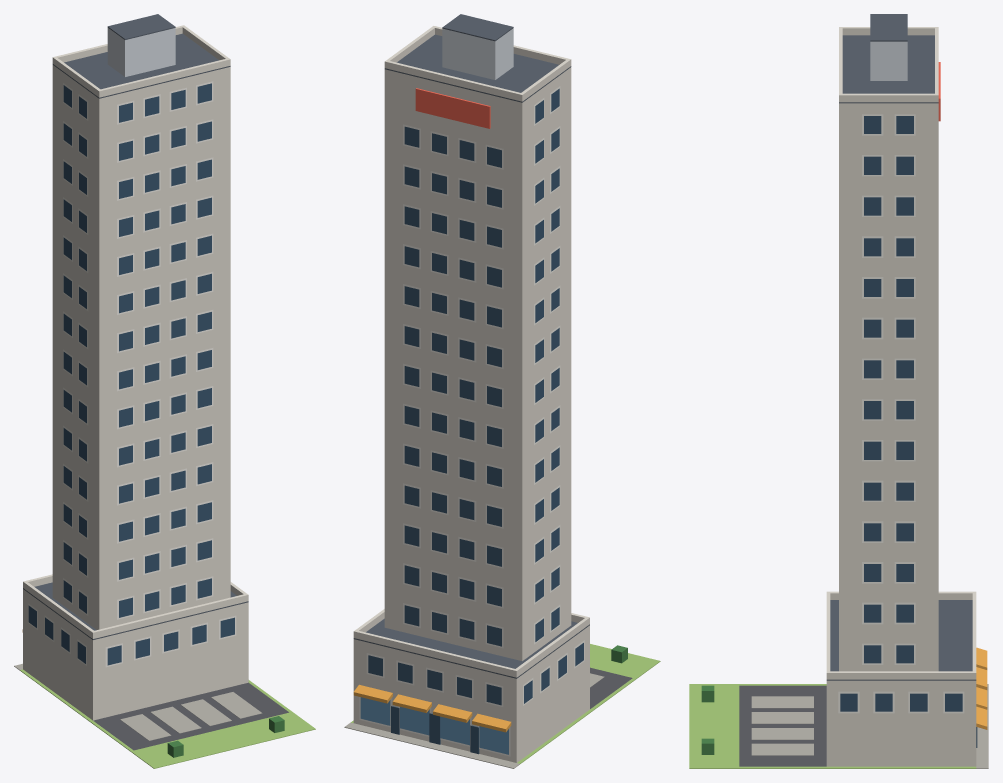
The picture shows the model from 3 angles, left to right: view 1: azimuth 30°, elevation 25°; view 2: azimuth 150°, elevation 25°; view 3: azimuth 270°, elevation 25°; orthographic projection. The views are drawn at different scales.
Parts seen in each view (by area): view 1: wall, podium, roof (×3), asphalt, parapet (×4), lawn, parking_bay (×4), plant_room; view 2: wall, podium, roof (×3), parapet (×4), plant_room, storefront (×4), sign, lawn, paving, asphalt; view 3: wall, podium, roof (×3), asphalt, lawn, parking_bay (×4), parapet (×2), plant_room, paving.
Part boxes in pixels (box(x1,y1,x2,y2)): wall: box(52, 65, 230, 629); podium: box(23, 589, 248, 720); roof (×3): box(23, 14, 248, 639); asphalt: box(93, 682, 288, 750); parapet (×4): box(24, 25, 248, 638); lawn: box(130, 712, 315, 768); parking_bay (×4): box(120, 692, 262, 740); plant_room: box(107, 28, 175, 76); wall: box(384, 67, 571, 661); podium: box(353, 625, 589, 762); roof (×3): box(353, 14, 589, 678); parapet (×4): box(353, 26, 588, 677); plant_room: box(442, 28, 513, 79); storefront (×4): box(360, 697, 508, 754); sign: box(415, 88, 490, 128); lawn: box(590, 644, 660, 679); paving: box(344, 722, 519, 768); asphalt: box(590, 667, 632, 708); wall: box(839, 103, 938, 671); podium: box(826, 680, 976, 766); roof (×3): box(826, 14, 976, 680); asphalt: box(739, 685, 826, 766); lawn: box(689, 684, 739, 768); parking_bay (×4): box(751, 696, 813, 755); parapet (×2): box(830, 93, 972, 679); plant_room: box(870, 41, 907, 80); paving: box(976, 684, 988, 768).
Size of the model in its own units: 16 by 61.86 by 24.
